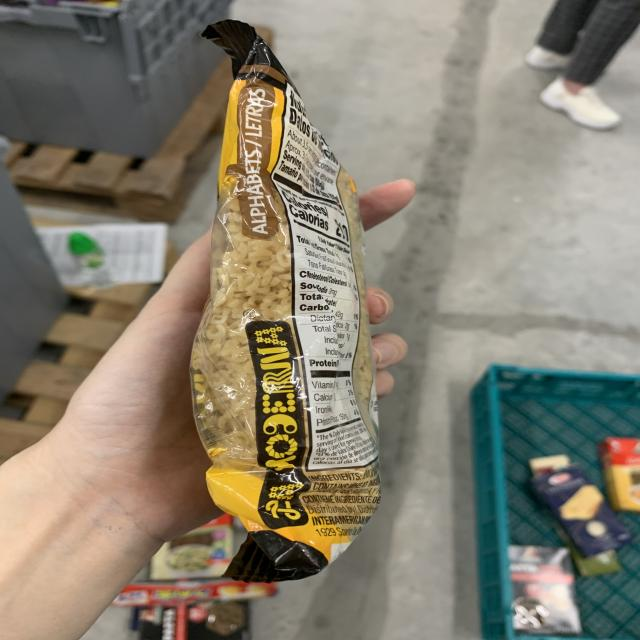object_name: (218, 40, 363, 561)
